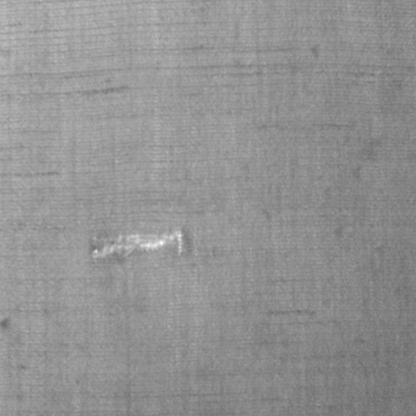hole: (88, 221, 186, 262)
